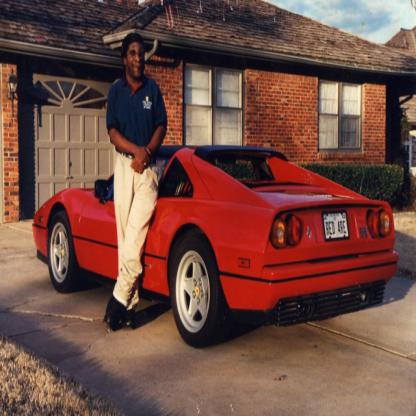Car: (32, 144, 399, 349)
